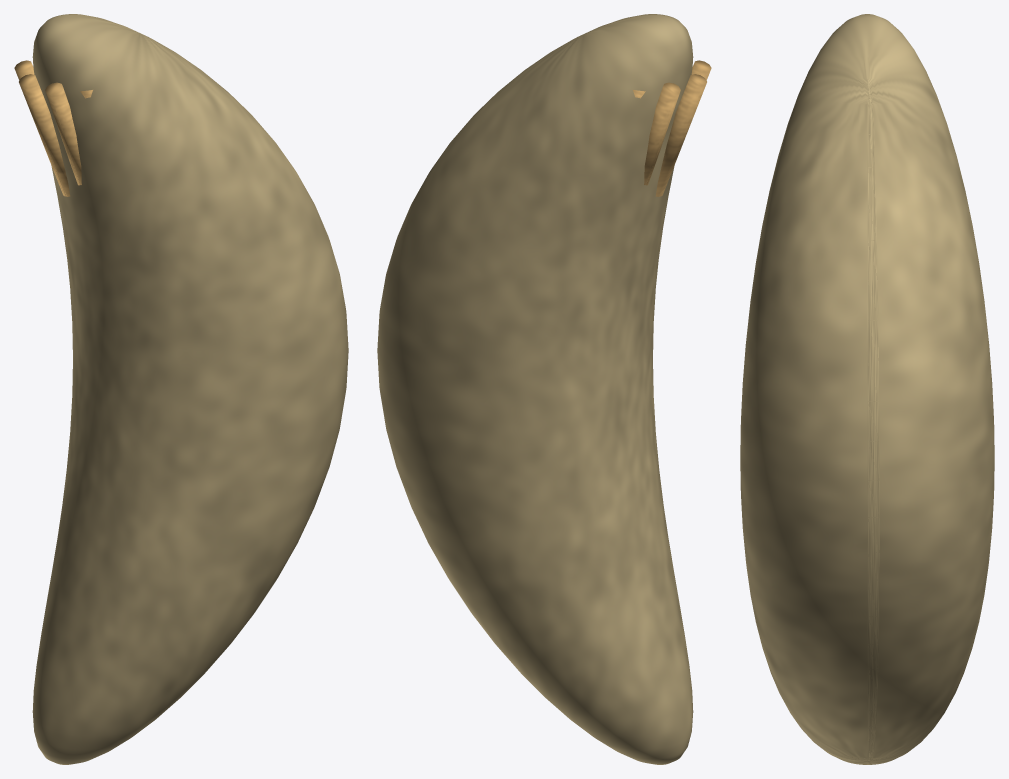
File: complete.glb
The picture shows the model from 3 angles, left to right: view 1: azimuth 30°, elevation 25°; view 2: azimuth 150°, elevation 25°; view 3: azimuth 270°, elevation 25°; orthographic projection.
Parts seen in each view (by area): view 1: membrana_mesh, apical_mesh; view 2: membrana_mesh, apical_mesh; view 3: membrana_mesh.
Boxes of the visible parts, bbox=[...] form: membrana_mesh: bbox=[32, 14, 348, 764]; apical_mesh: bbox=[14, 60, 92, 196]; membrana_mesh: bbox=[377, 14, 693, 764]; apical_mesh: bbox=[633, 60, 711, 196]; membrana_mesh: bbox=[740, 14, 994, 764].
Bounding box in the file's own units: 1.08 × 2.44 × 0.76.
4 materials, 4 textured.
